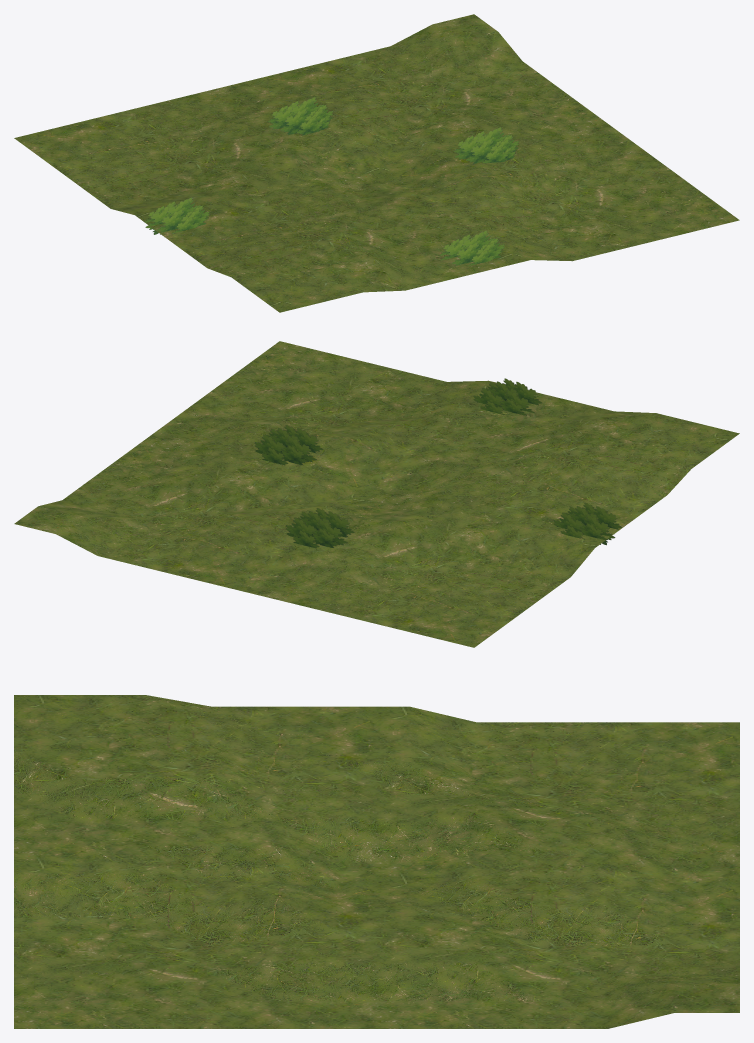
Rendered from TL_map_valley.glb.
3 renders of one model, top to bottom at view 1: azimuth 30°, elevation 25°; view 2: azimuth 150°, elevation 25°; view 3: azimuth 270°, elevation 25°, orthographic. The views are drawn at different scales.
Parts seen in each view (by area): view 1: Plane; view 2: Plane; view 3: Plane.
Boxes of the visible parts, x1=… form: Plane: x1=14, y1=14, x2=739, y2=312; Plane: x1=14, y1=341, x2=739, y2=647; Plane: x1=14, y1=695, x2=739, y2=1028.
Bounding box in the file's own units: 2.03 × 0.1484 × 2.
2 materials, 2 textured.
